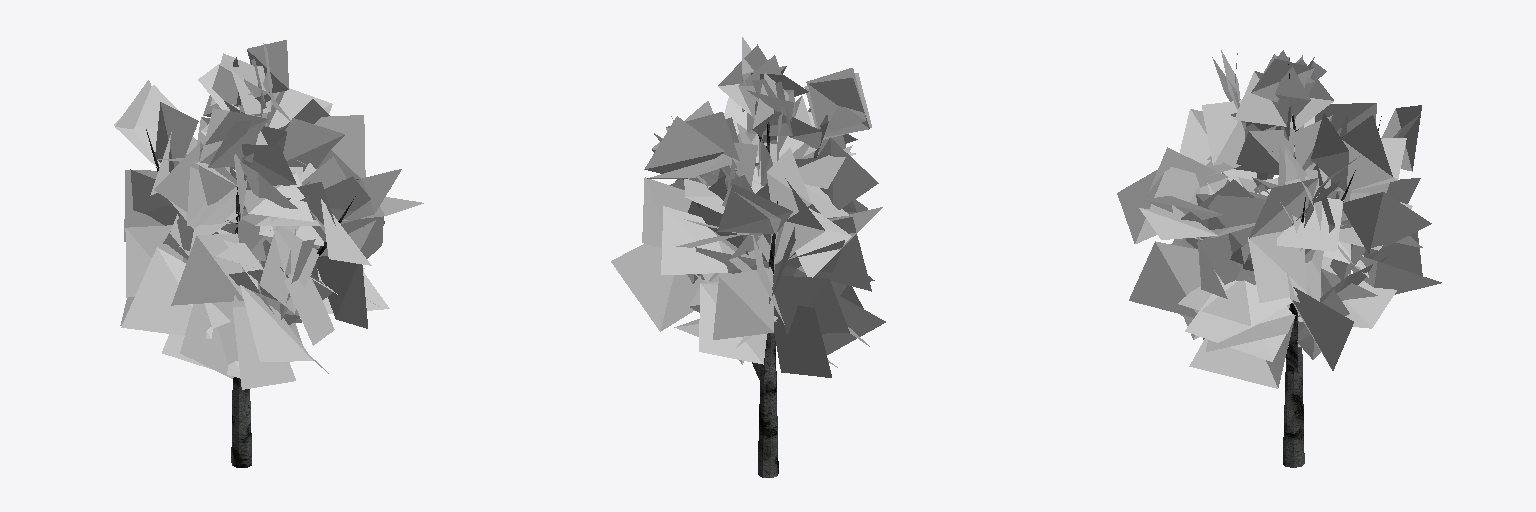
3 views of the same model, side by side, from view 1: azimuth 30°, elevation 25°; view 2: azimuth 150°, elevation 25°; view 3: azimuth 270°, elevation 25° (orthographic).
Parts seen in each view (by area): view 1: birch; view 2: birch; view 3: birch.
Part boxes in pixels (x1,y1,x2,y2): birch: (114, 40, 423, 467); birch: (611, 37, 885, 477); birch: (1117, 50, 1441, 467).
Bounding box in the file's own units: 10.19 × 17.13 × 11.98.
Materials: 2 (1 with a texture image).